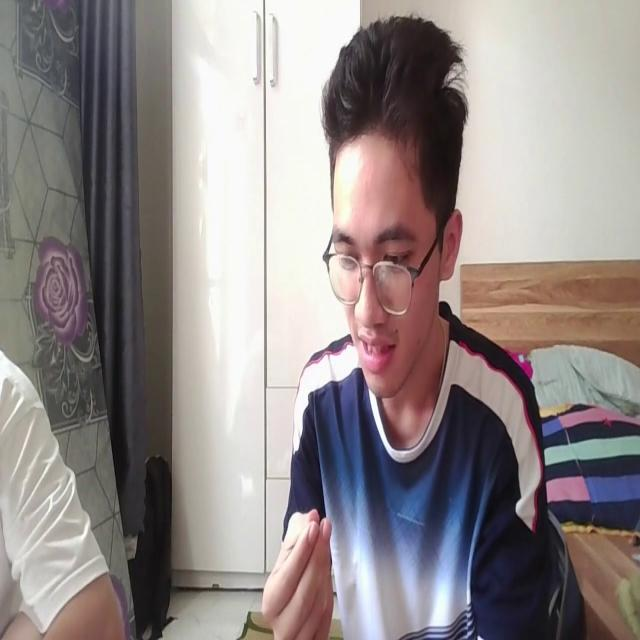student: (264, 12, 559, 640)
